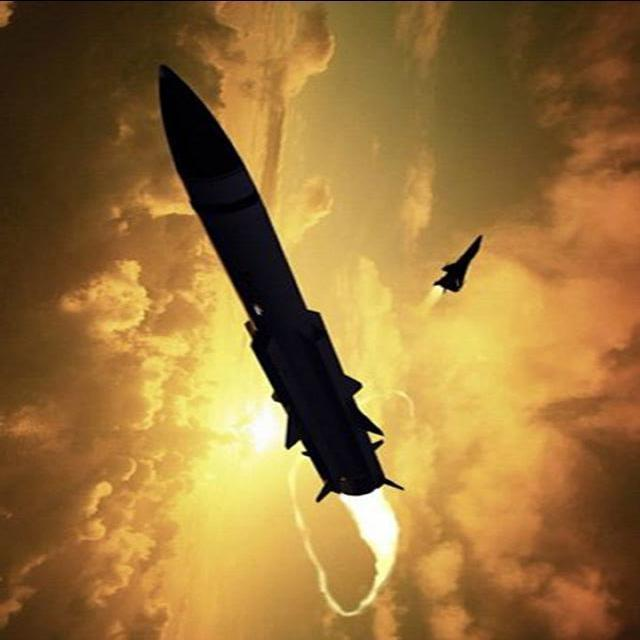missile: (155, 59, 400, 495)
